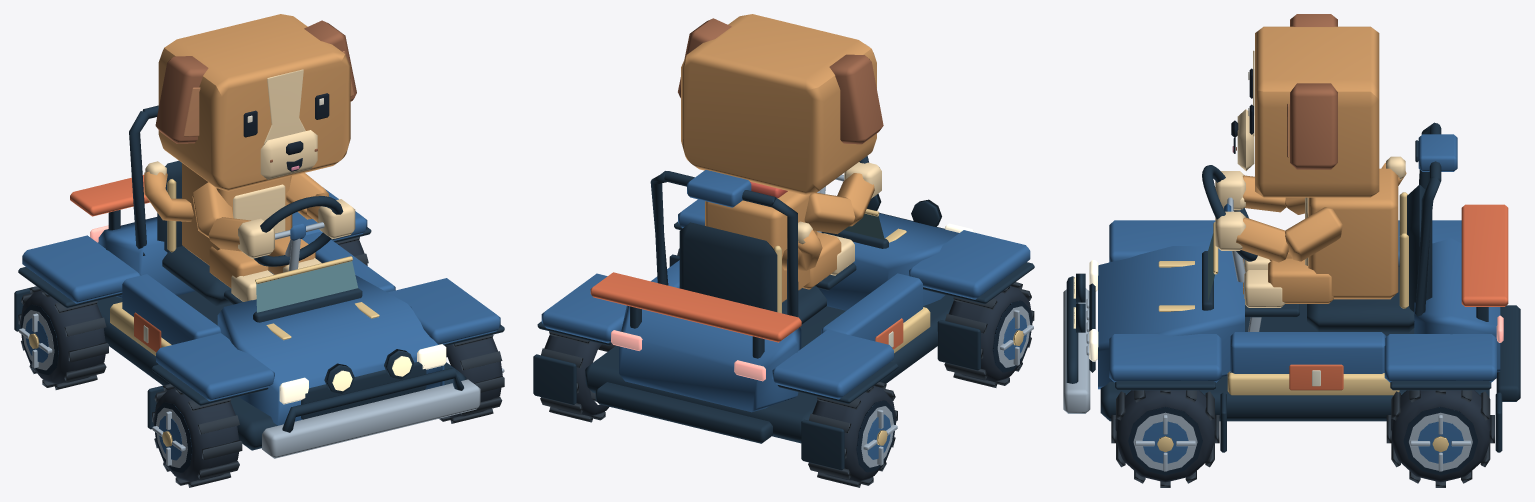
The model's file is kart_anjing_low.glb.
3 views of the same model, side by side, from view 1: azimuth 30°, elevation 25°; view 2: azimuth 150°, elevation 25°; view 3: azimuth 270°, elevation 25° (orthographic). The views are drawn at different scales.
Parts seen in each view (by area): view 1: chassis, driver_pose, wheel_fl_spin, wheel_rl_spin, ear_l, wheel_fr_spin, steering, tail, ear_r, eyes; view 2: chassis, driver_pose, wheel_rl_spin, wheel_fl_spin, ear_l, wheel_rr_spin, tail, ear_r; view 3: chassis, driver_pose, wheel_rr_spin, wheel_fr_spin, ear_r, steering, ear_l.
Boxes of the visible parts, <box> form: chassis: <box>14,105,504,458</box>; driver_pose: <box>158,14,355,301</box>; wheel_fl_spin: <box>152,384,242,487</box>; wheel_rl_spin: <box>18,286,108,389</box>; ear_l: <box>155,56,208,143</box>; wheel_fr_spin: <box>439,334,504,423</box>; steering: <box>253,196,343,266</box>; tail: <box>144,161,193,221</box>; ear_r: <box>304,20,356,101</box>; eyes: <box>243,93,329,137</box>; chassis: <box>533,170,1034,470</box>; driver_pose: <box>681,14,881,302</box>; wheel_rl_spin: <box>808,382,897,487</box>; wheel_fl_spin: <box>944,282,1034,387</box>; ear_l: <box>829,54,883,144</box>; wheel_rr_spin: <box>540,331,615,422</box>; tail: <box>782,221,822,270</box>; ear_r: <box>678,18,731,97</box>; chassis: <box>1063,122,1520,452</box>; driver_pose: <box>1215,26,1398,307</box>; wheel_rr_spin: <box>1386,390,1494,487</box>; wheel_fr_spin: <box>1111,390,1219,487</box>; ear_r: <box>1287,83,1337,169</box>; steering: <box>1202,165,1257,261</box>; ear_l: <box>1290,14,1337,26</box>.
Size of what is drawn, in the model's own units: 1.46 by 1.51 by 1.73.
